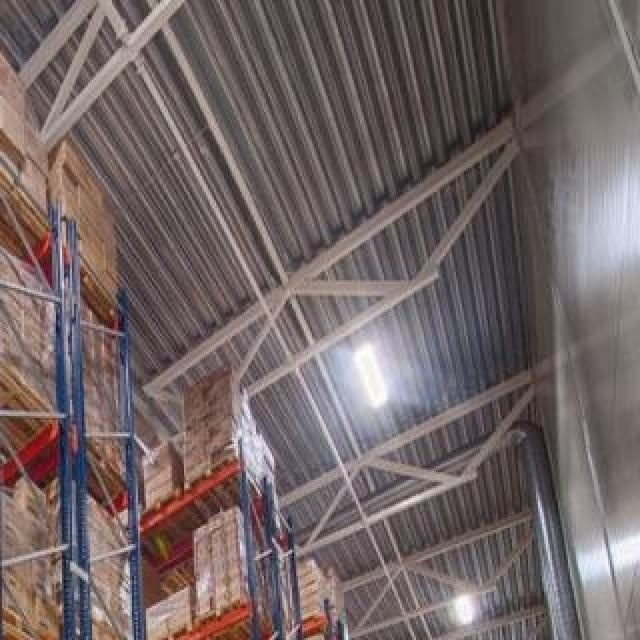fluorescent tube: (334, 331, 403, 427)
